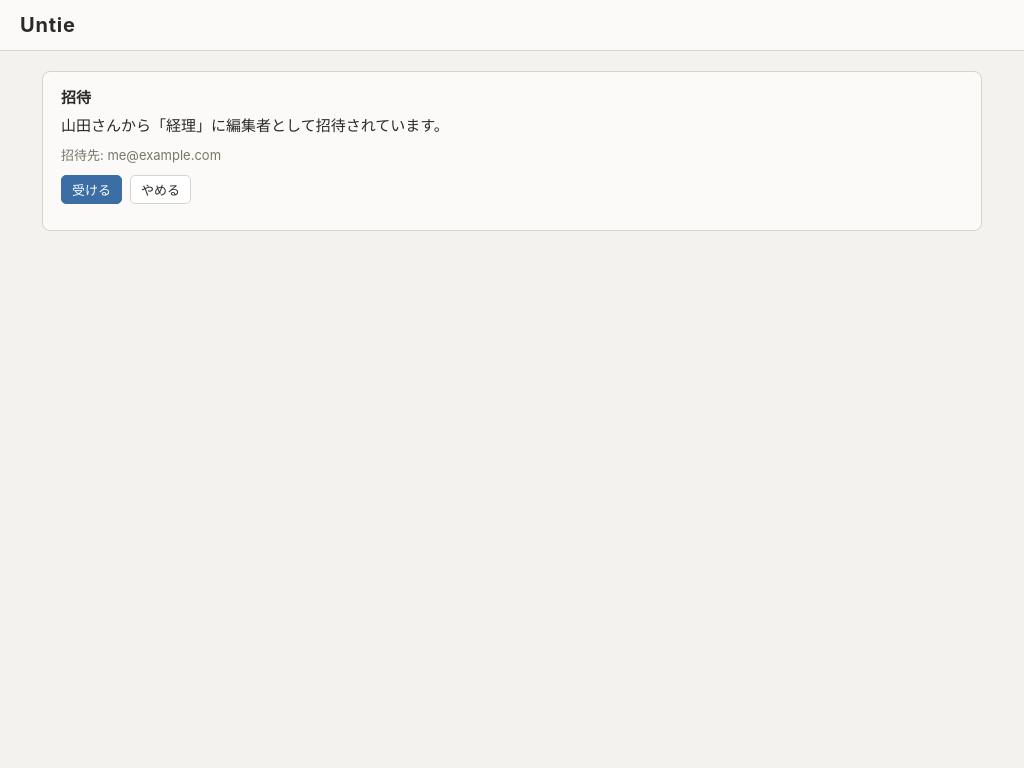
it: InvitePage › 受けるときのその他の失敗はトーストに出し、押し直せる。二重に押しても 1 回しか送らない
Click the button "受ける" at (92, 190), box [61,175,122,204]
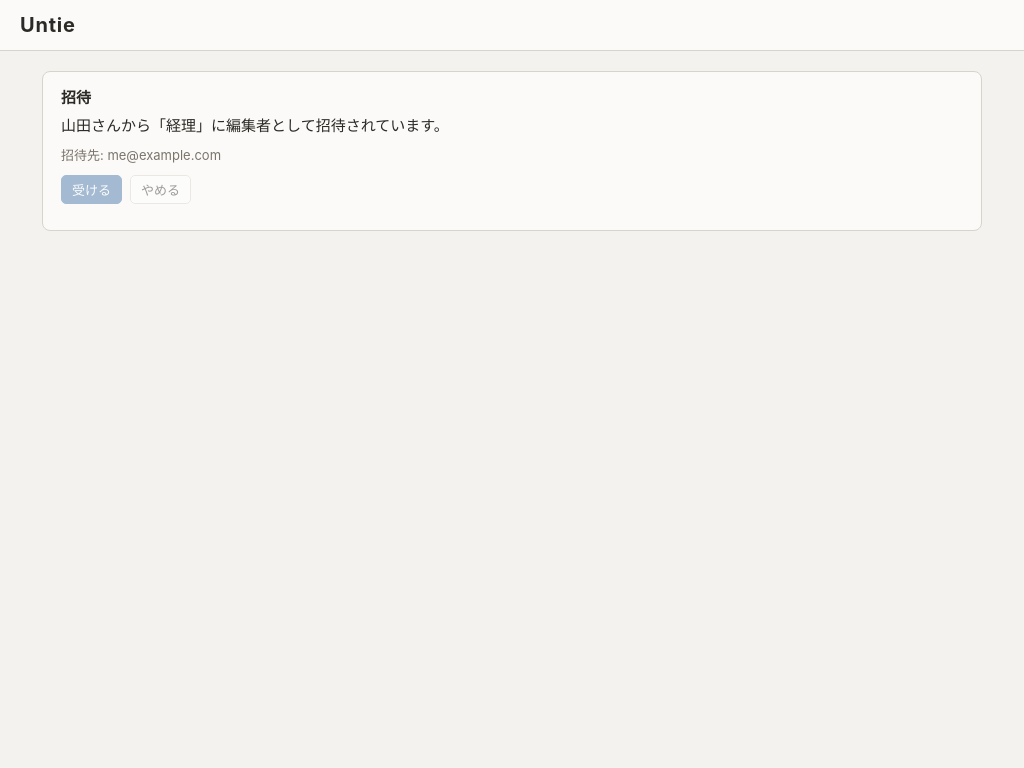
Click the button "受ける" at (92, 190), box [61,175,122,204]
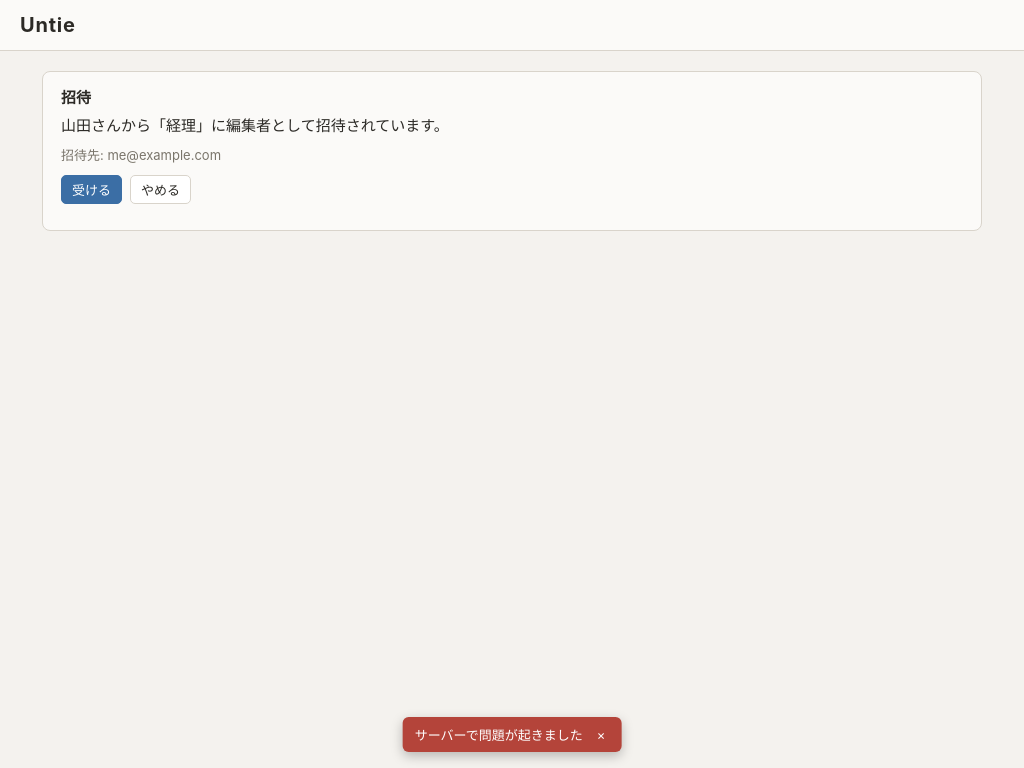
Result: the button "受ける" is enabled at [61,175,122,204]
